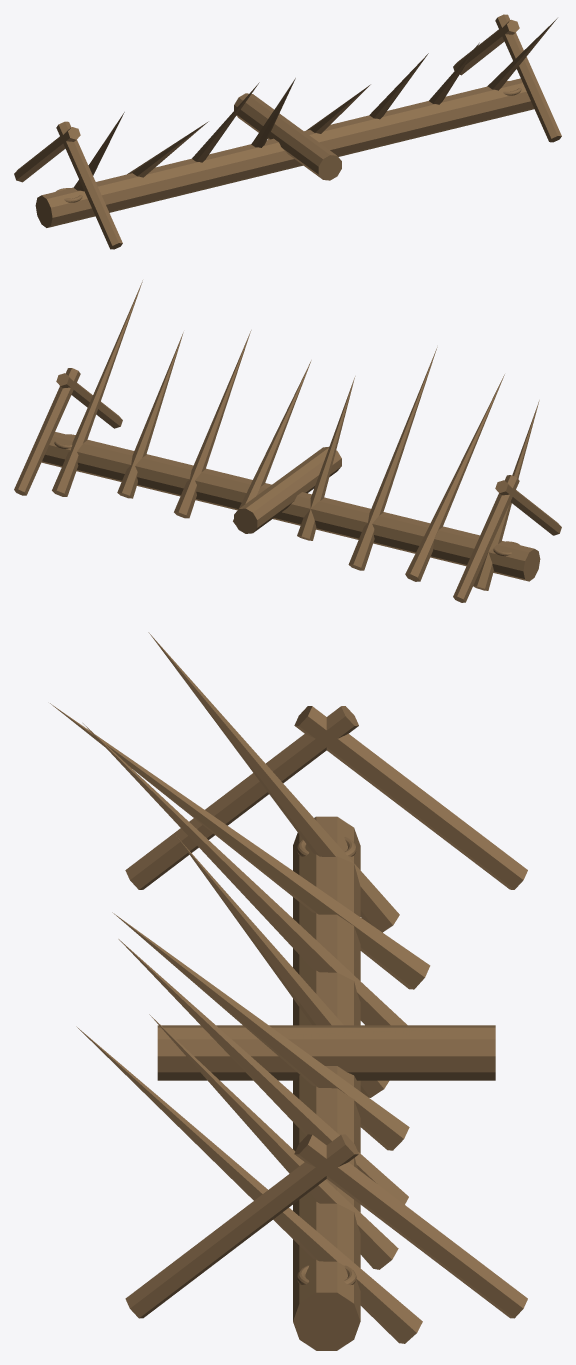
The model's file is spike_barricade.glb.
The picture shows the model from 3 angles, top to bottom: view 1: azimuth 30°, elevation 25°; view 2: azimuth 150°, elevation 25°; view 3: azimuth 270°, elevation 25°; orthographic projection. The views are drawn at different scales.
Parts seen in each view (by area): view 1: spike_barricade; view 2: spike_barricade; view 3: spike_barricade.
Part boxes in pixels (x1,y1,x2,y2): spike_barricade: [14, 14, 561, 249]; spike_barricade: [14, 280, 561, 602]; spike_barricade: [50, 632, 527, 1350].
Size of the model in its own units: 2 by 0.6577 by 0.8528.
